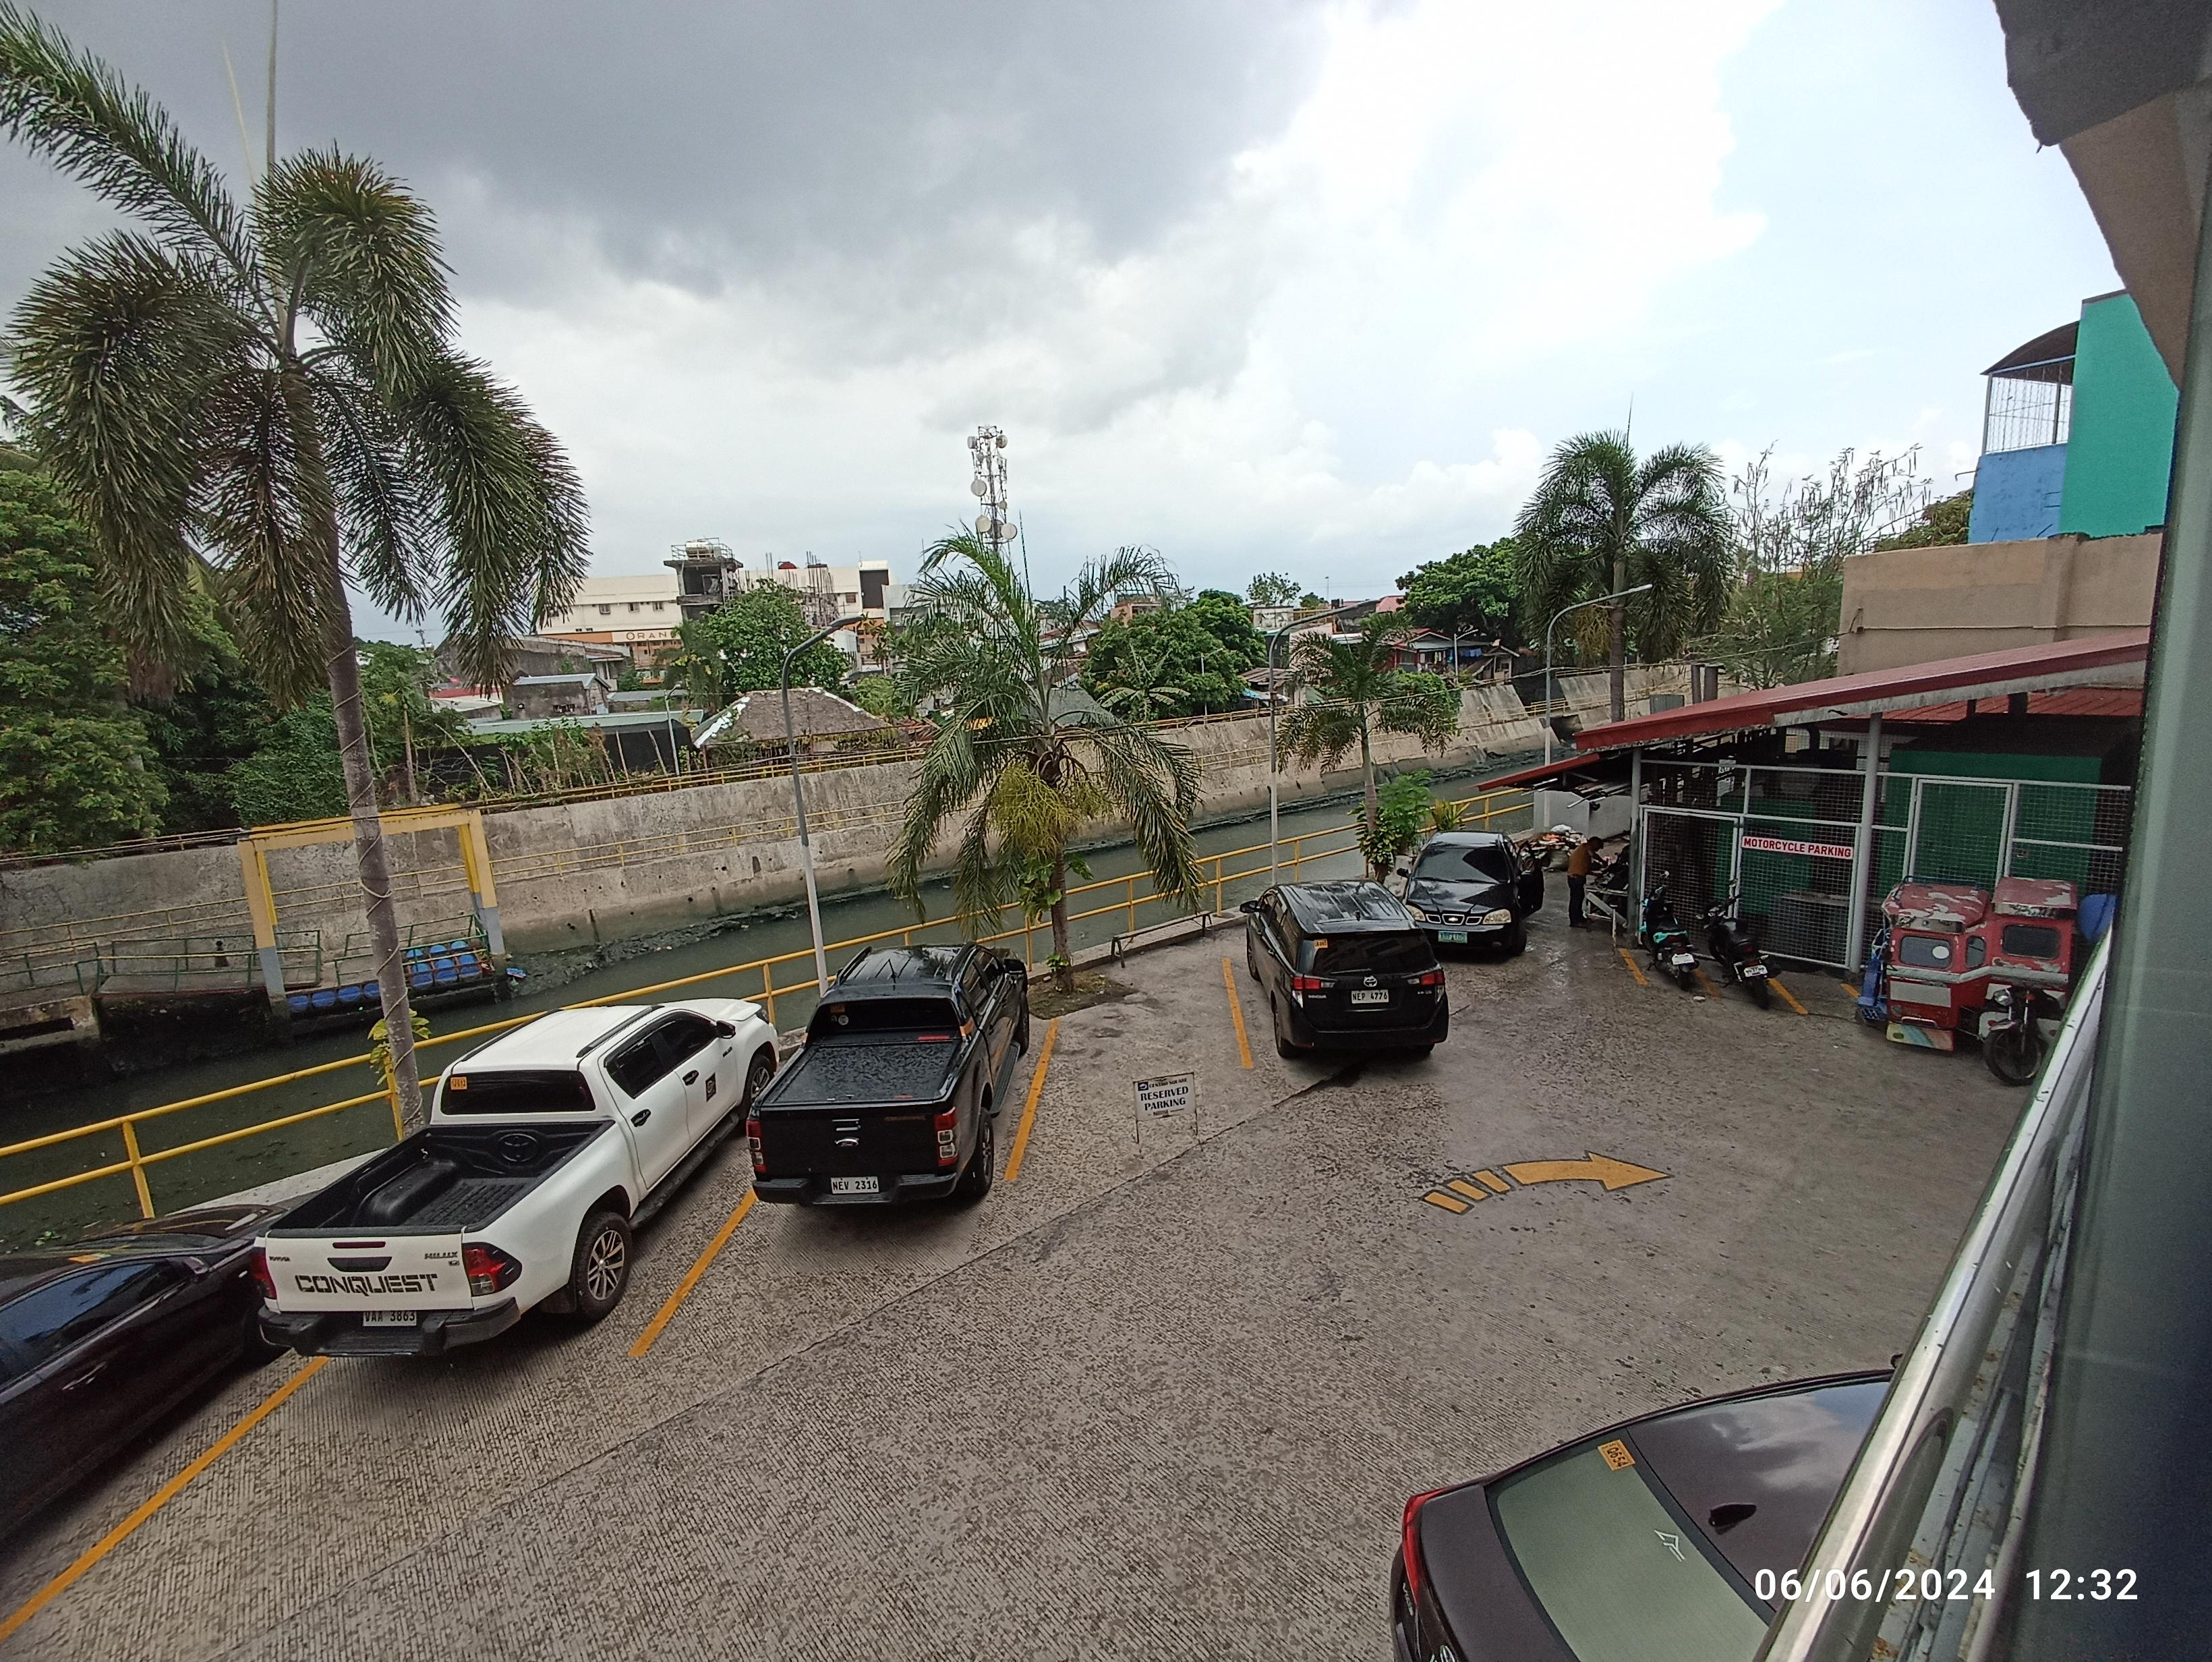occupied: (615, 1013, 1060, 1369), (1681, 953, 1809, 1013), (1618, 946, 1723, 999)
vacant: (1000, 958, 1255, 1185), (1755, 967, 1893, 1021)
